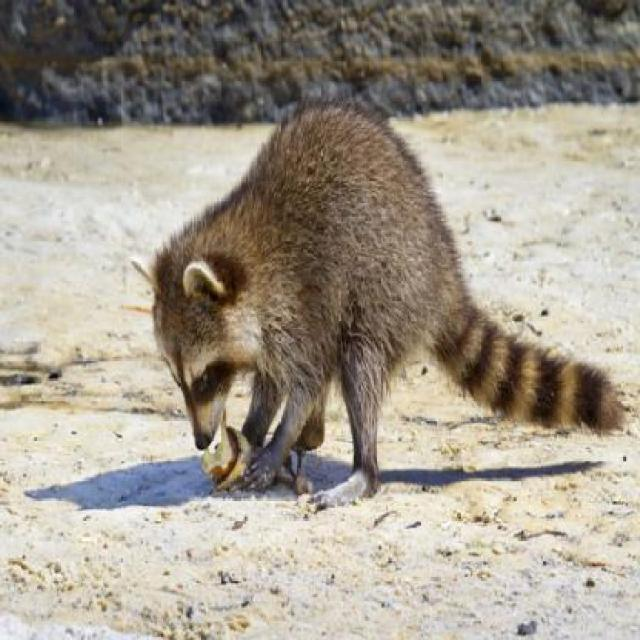raccon: (125, 98, 632, 514)
